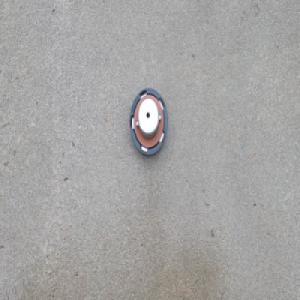FuelCap: (128, 85, 169, 157)
